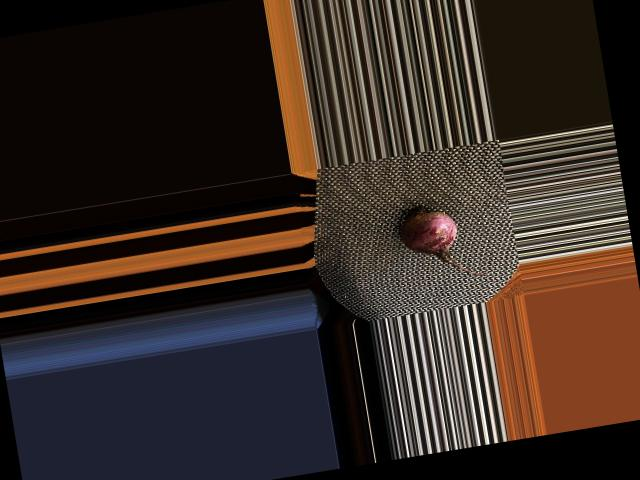beet: (395, 195, 489, 287)
